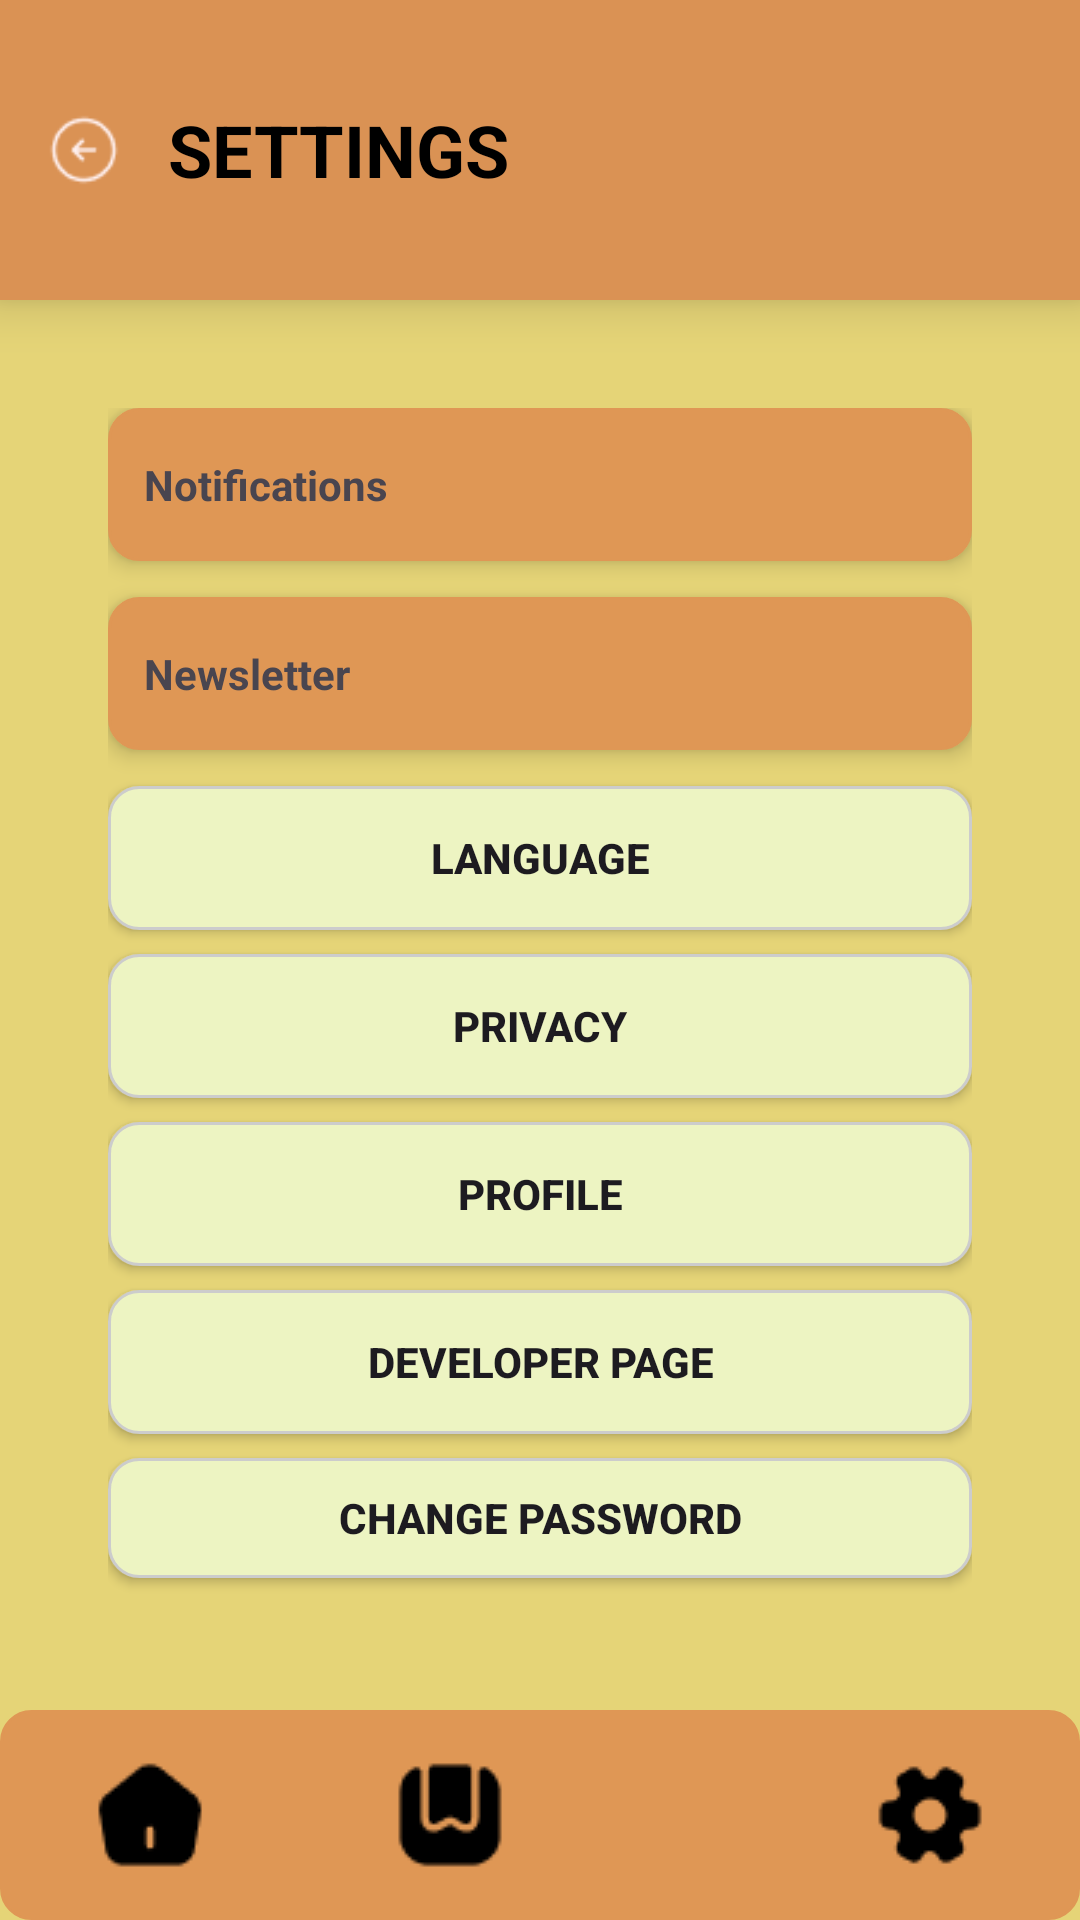

Screen size 1080x1920. Icon name, then its center in pixels as (x,y):
Back: (84,150)
book: (450,1815)
home: (150,1815)
settings: (930,1815)
